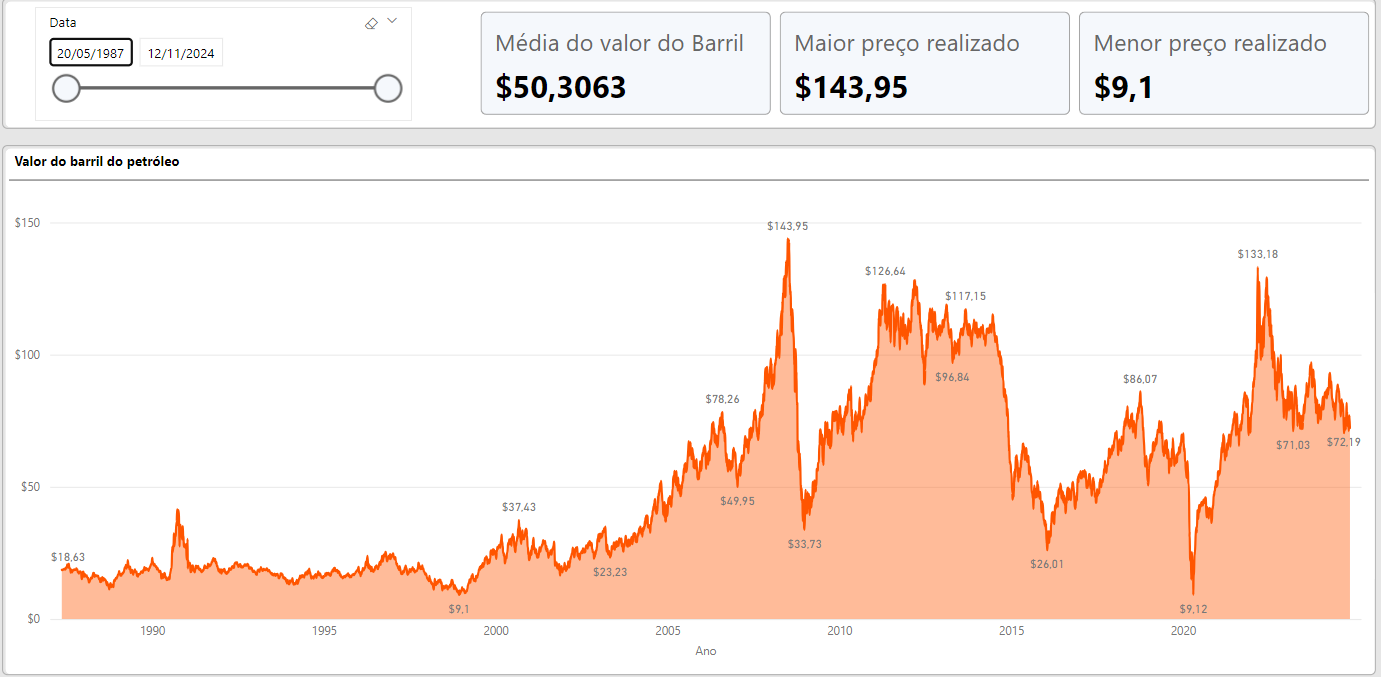

The dashboard page shown, as its layout file describes it:
{"tool":"powerbi","page":{"name":"Realizado","canvas":[1280,720],"ordinal":0},"visuals":[{"type":"shape","box":[12.4,231.4,1249.4,482.4],"z":0},{"type":"lineChart","title":"Valor do barril do petróleo","fields":{"Category":["df_barril_petroleo_final.data.Variation.Hierarquia de datas.Ano","df_barril_petroleo_final.data.Variation.Hierarquia de datas.Mês","df_barril_petroleo_final.data.Variation.Hierarquia de datas.Dia"],"Y":["#Medidas.realizado"]},"box":[19.5,238.5,1236.1,465.5],"z":1000},{"type":"shape","box":[12.4,98.4,1249.4,118.8],"z":2000},{"type":"cardVisual","fields":{"Data":["#Medidas.avg_realizado","#Medidas.Maior_realizado","#Medidas.Menor_realizado"]},"box":[442.5,105.5,819.3,104.6],"z":3000},{"type":"slicer","fields":{"Values":["df_barril_petroleo_final.data"]},"box":[43,106.6,342.1,103.9],"z":4000},{"type":"shape","box":[0,0,1279.7,86],"z":5000},{"type":"textbox","box":[0,0,549.8,86.9],"z":6000},{"type":"pageNavigator","box":[618.7,18,652.8,50.3],"z":7000}]}

Visuals, with their boxes on the page's 1280x720 design canvas (x1, y1, x2, y2). These are canvas units, not pixel positions in the 1381x677 screenshot, which may show the page scaled, cropped or inside an application window:
shape: bbox=(12, 231, 1262, 714)
"Valor do barril do petróleo" lineChart: bbox=(20, 238, 1256, 704)
shape: bbox=(12, 98, 1262, 217)
cardVisual - #Medidas.avg_realizado x #Medidas.Maior_realizado: bbox=(442, 106, 1262, 210)
slicer - df_barril_petroleo_final.data: bbox=(43, 107, 385, 210)
shape: bbox=(0, 0, 1280, 86)
textbox: bbox=(0, 0, 550, 87)
pageNavigator: bbox=(619, 18, 1272, 68)
